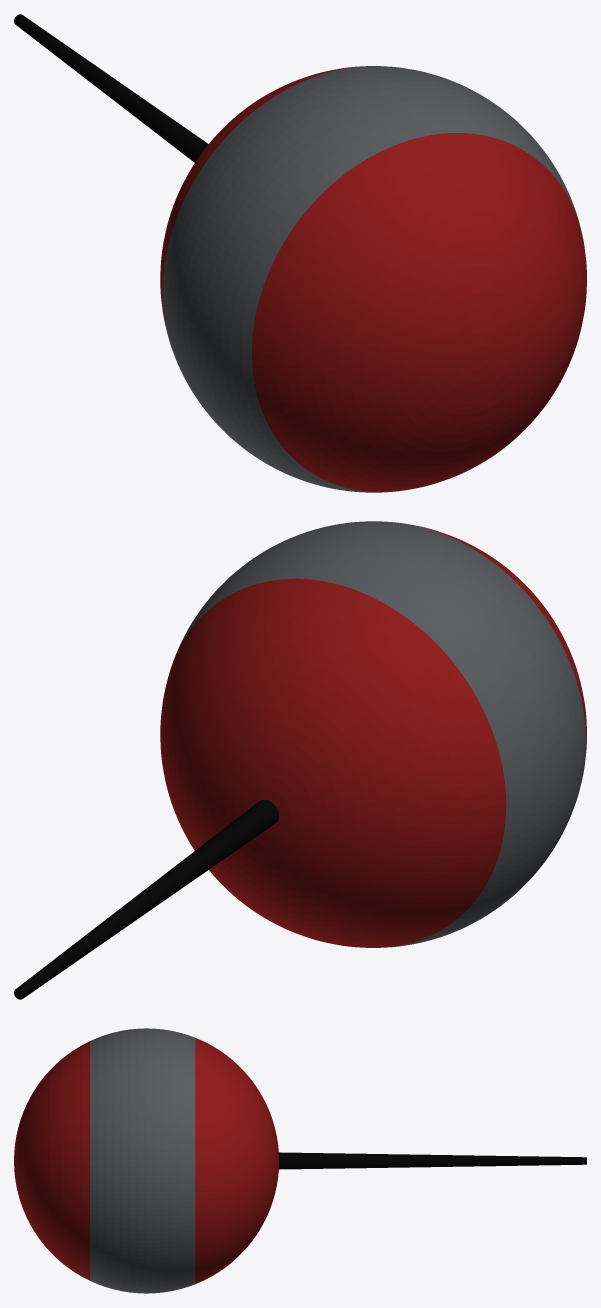
Rendered from stanfordM.glb.
The picture shows the model from 3 angles, top to bottom: view 1: azimuth 30°, elevation 25°; view 2: azimuth 150°, elevation 25°; view 3: azimuth 270°, elevation 25°; orthographic projection. The views are drawn at different scales.
Visible parts, largest first — view 1: Sphere.010; view 2: Sphere.010; view 3: Sphere.010.
Boxes of the visible parts, x1,y1,x2,y2 form: Sphere.010: [14, 14, 586, 492]; Sphere.010: [14, 521, 586, 999]; Sphere.010: [14, 1028, 586, 1293].
Bounding box in the file's own units: 0.9998 × 1 × 2.16.
